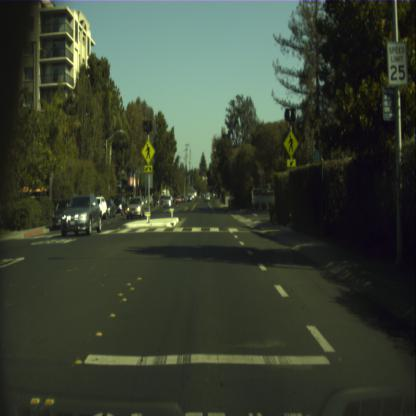Yellow: (291, 110, 295, 119), (148, 122, 152, 130)
